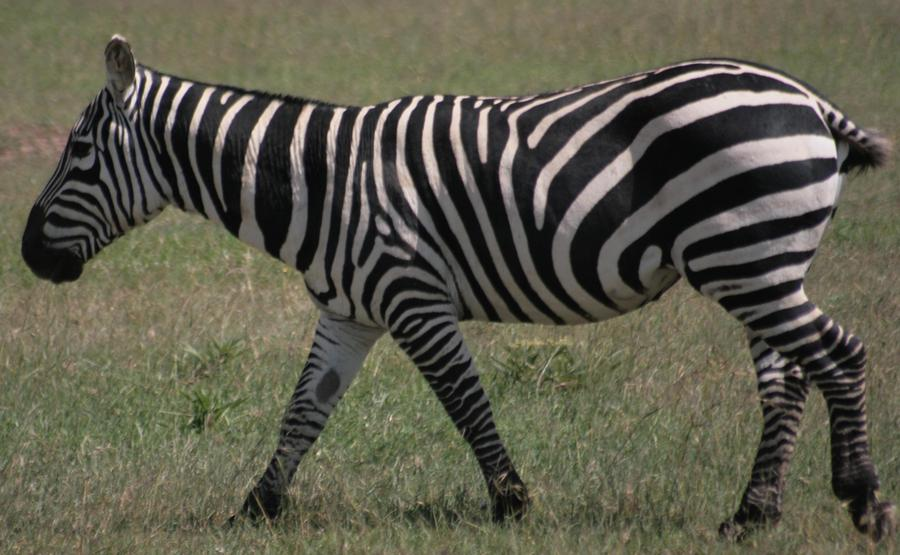zebra_plains: (305, 92, 814, 324)
